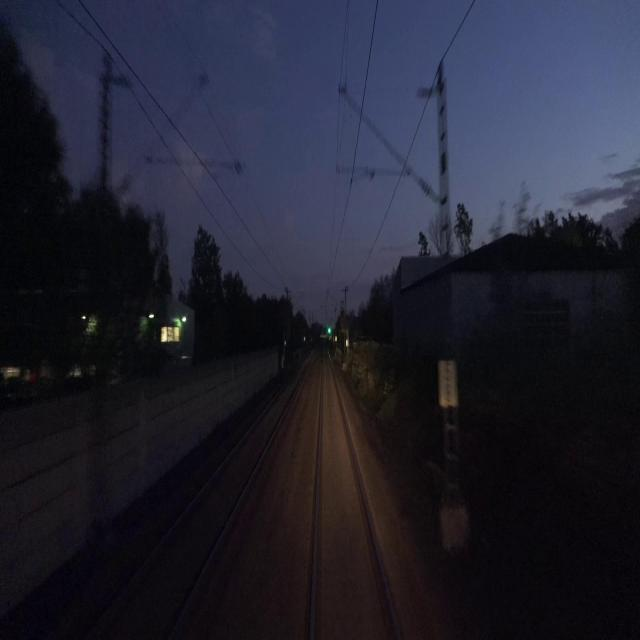rail-track: (86, 344, 318, 639), (314, 346, 397, 639)
